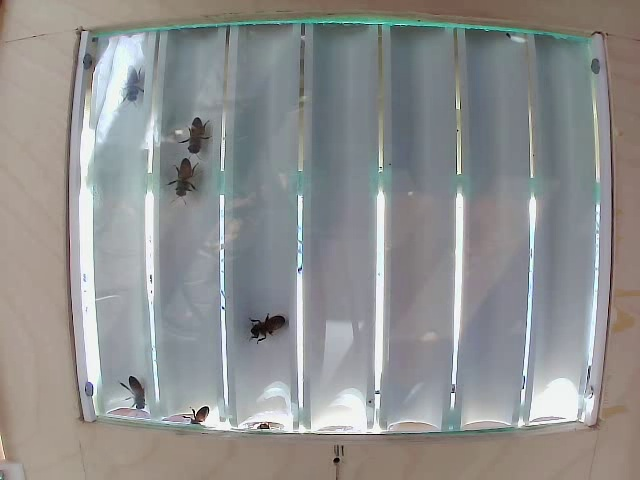bee: (248, 296, 290, 345), (181, 111, 216, 154), (118, 62, 151, 107), (168, 161, 202, 197), (110, 385, 149, 406)
